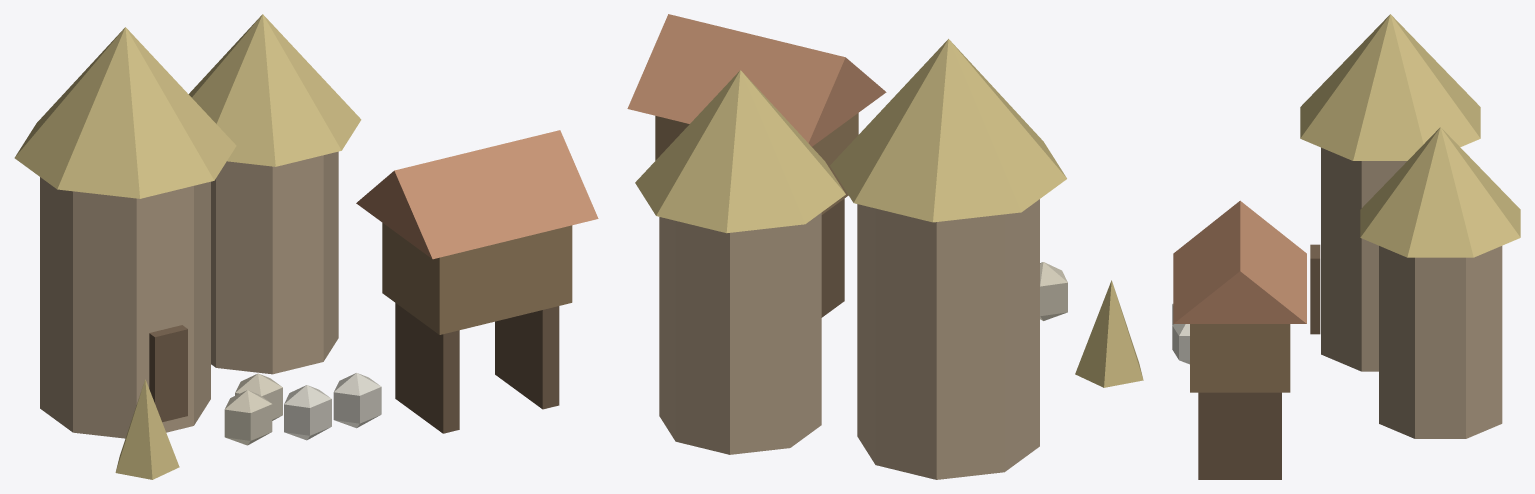
Rendered from granary.glb.
3 renders of one model, left to right at view 1: azimuth 30°, elevation 25°; view 2: azimuth 150°, elevation 25°; view 3: azimuth 270°, elevation 25°, orthographic. The views are drawn at different scales.
Visible parts, largest first — view 1: LOD0; view 2: LOD0; view 3: LOD0.
Part boxes in pixels (left/top/right/bottom): LOD0: left=14, top=14, right=598, bottom=479; LOD0: left=627, top=14, right=1143, bottom=479; LOD0: left=1172, top=14, right=1520, bottom=479.
Size of what is drawn, in the model's own units: 0.268 by 0.217 by 0.2087.
